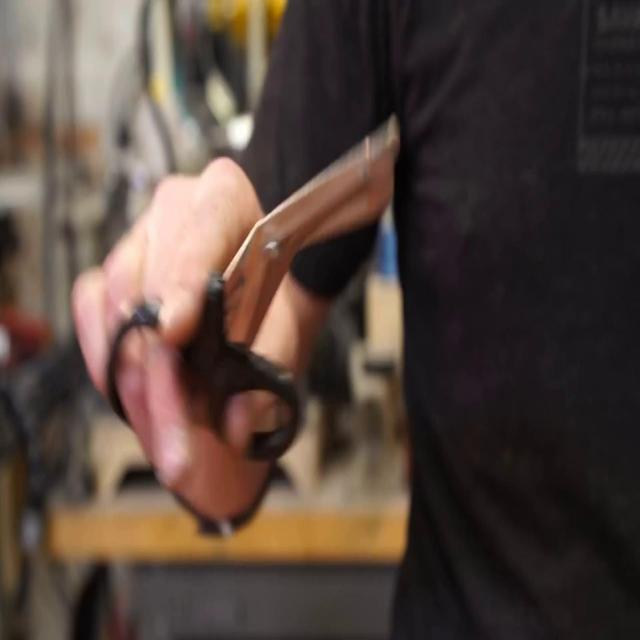scissor: (106, 114, 402, 532)
